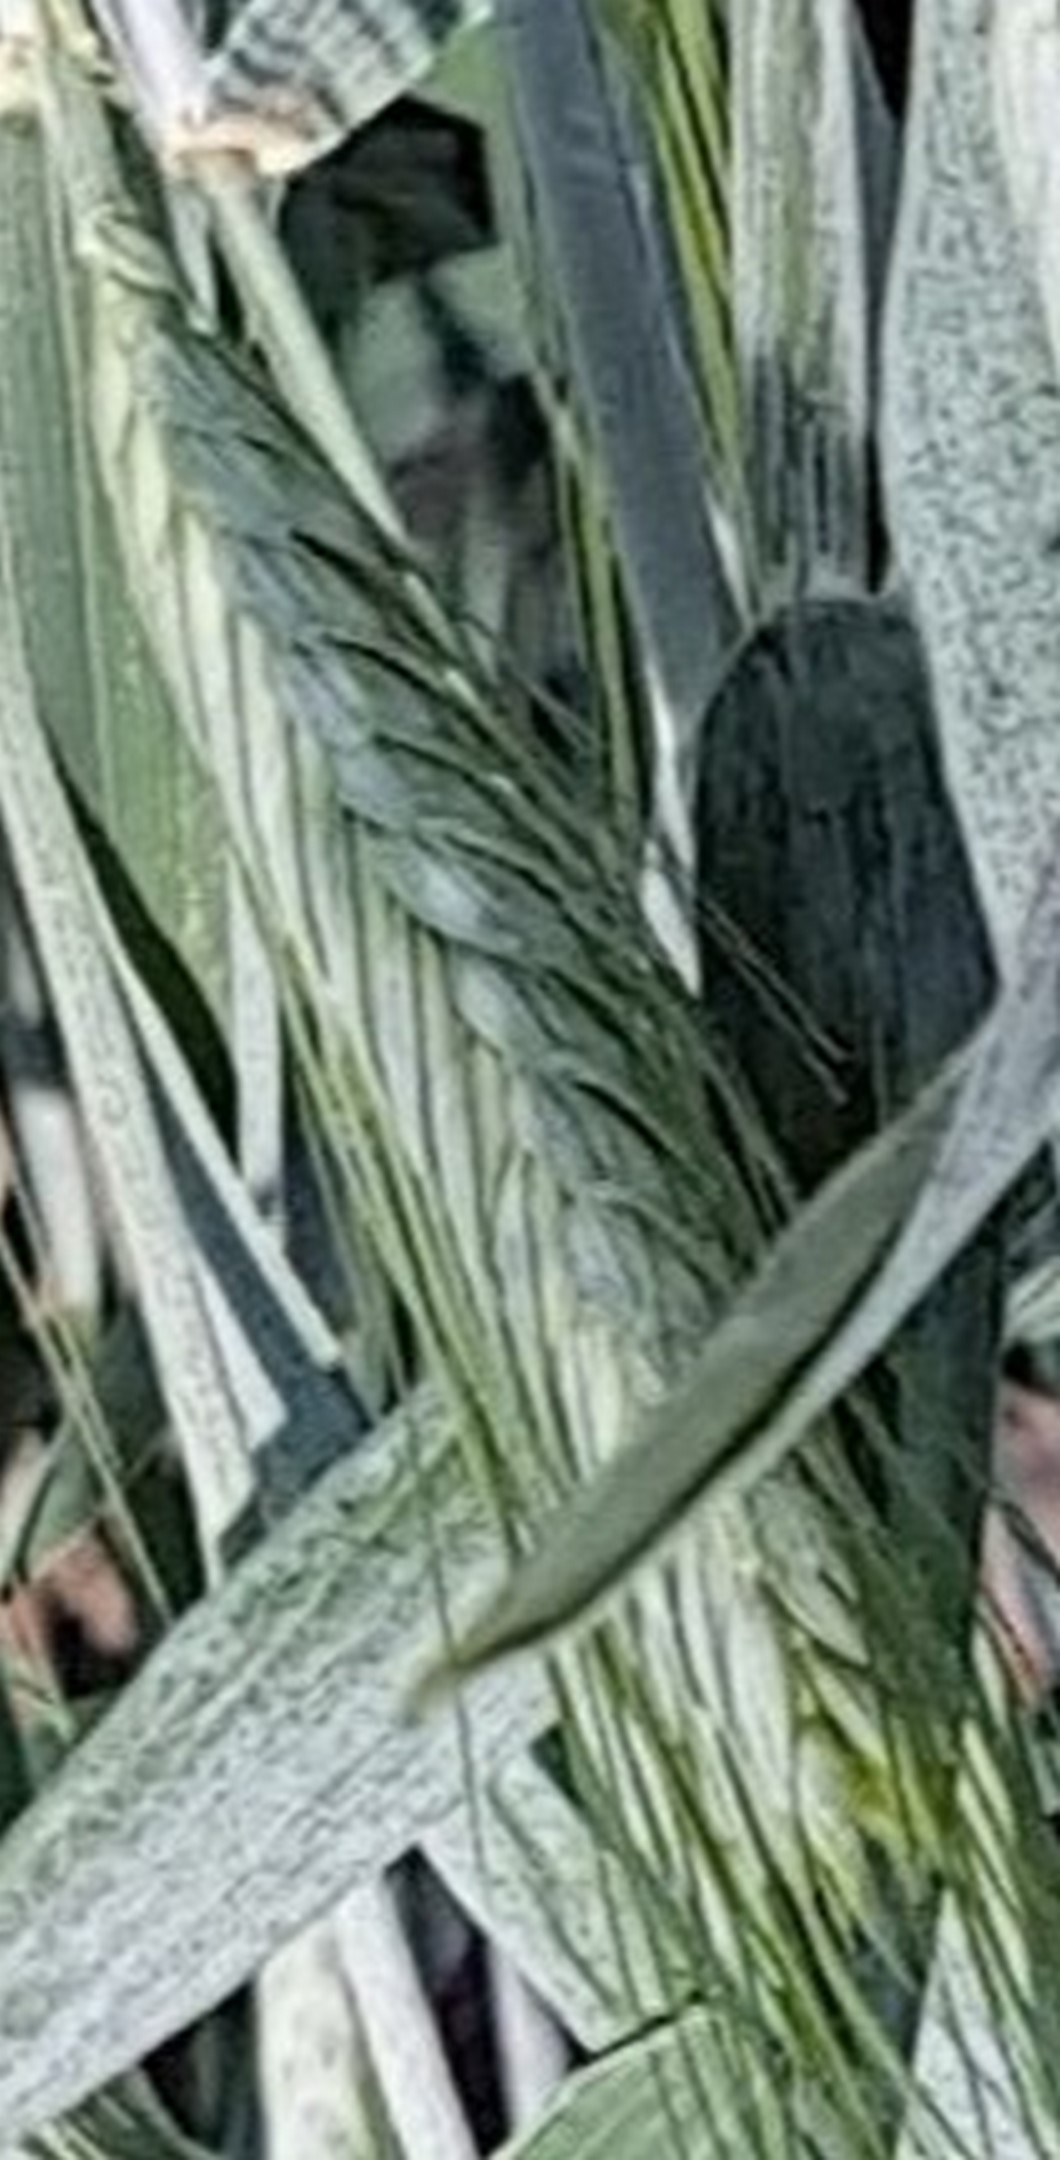Healthy Wheat: (66, 249, 1032, 1902)
